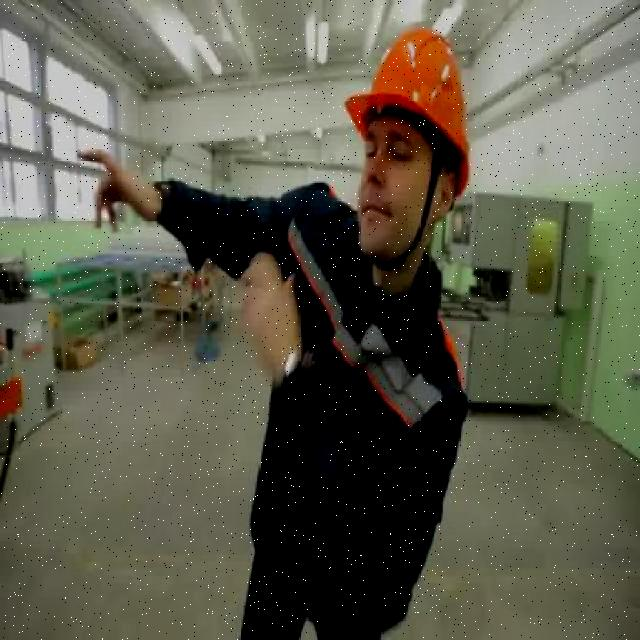Helmet: (342, 22, 471, 198)
Mask: (157, 174, 471, 638)
